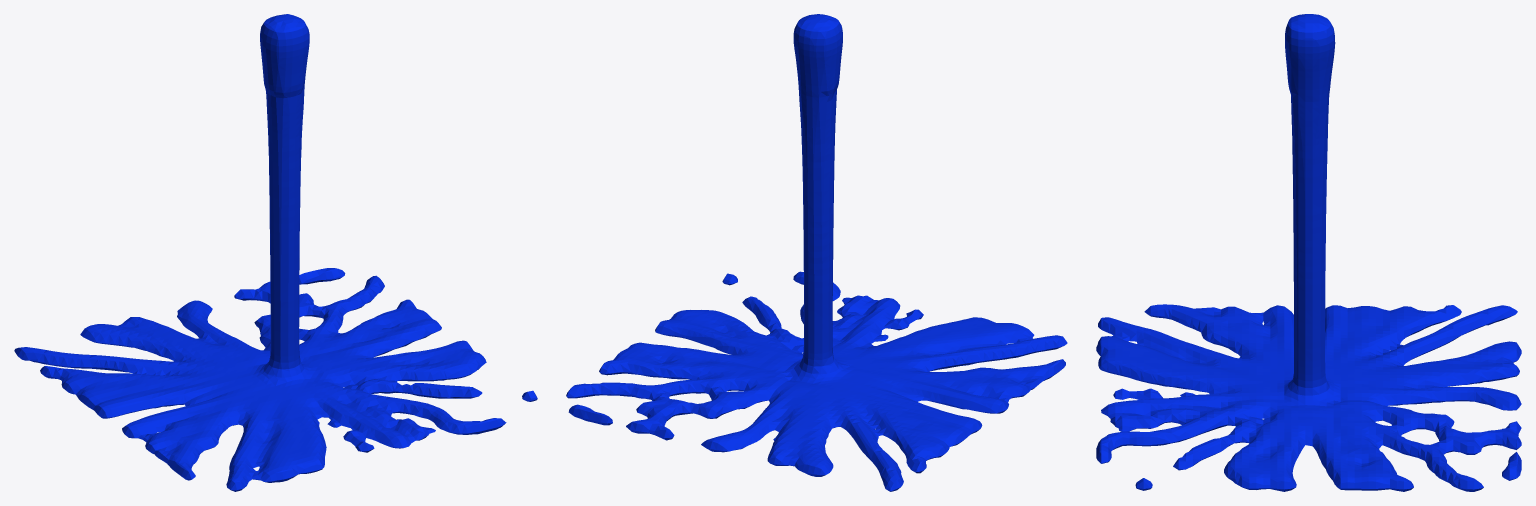
The model's file is Water.fbx.
3 renders of one model, left to right at view 1: azimuth 30°, elevation 25°; view 2: azimuth 150°, elevation 25°; view 3: azimuth 270°, elevation 25°, orthographic. The views are drawn at different scales.
Visible parts, largest first — view 1: Cube; view 2: Cube; view 3: Cube.
Boxes of the visible parts, x1,y1,x2,y2 form: Cube: (14, 14, 537, 491); Cube: (566, 14, 1067, 491); Cube: (1096, 14, 1521, 491).
Size of the model in its own units: 1456 by 1462 by 1457.
